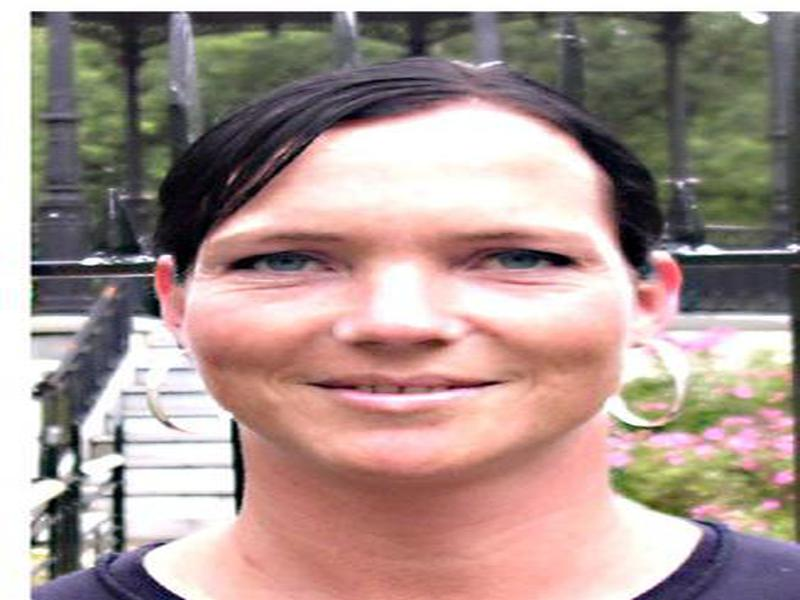without_mask: (185, 155, 617, 480)
